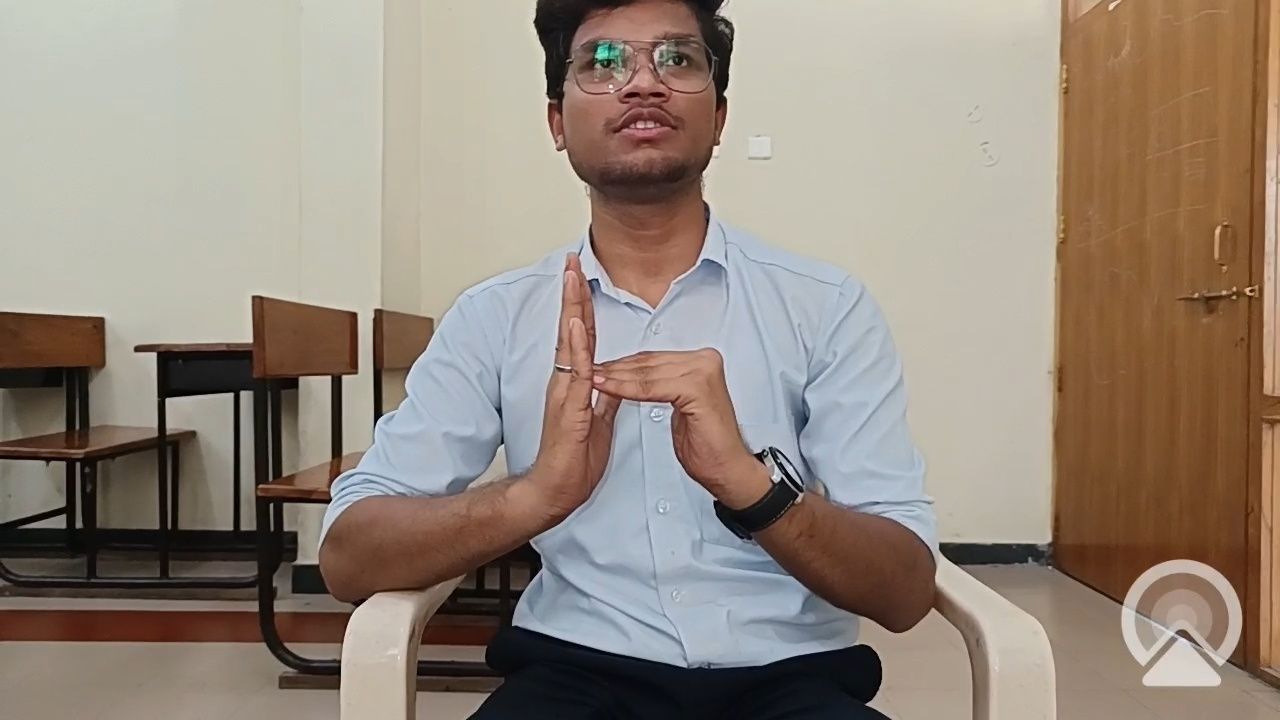Z: (508, 240, 788, 578)
